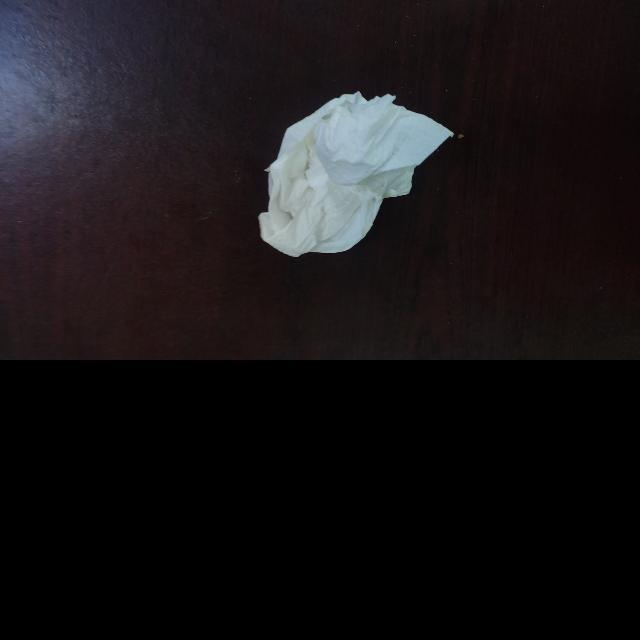kitchen paper: (255, 84, 461, 265)
